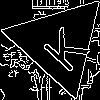K: (34, 18, 92, 75)
